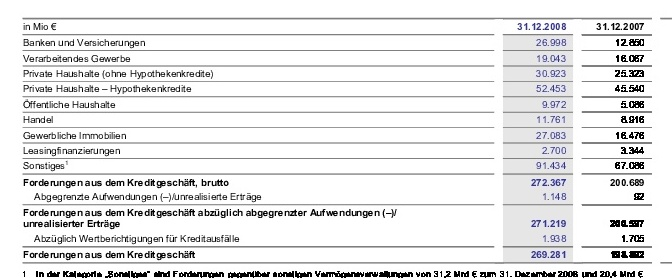table: (0, 0, 672, 278)
